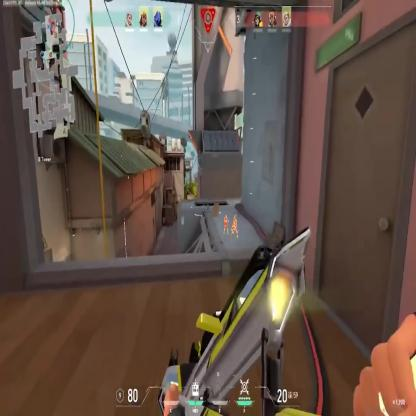enemy: (231, 216, 238, 237), (223, 215, 228, 235)
enemy_head: (234, 216, 236, 220), (225, 215, 227, 218)
